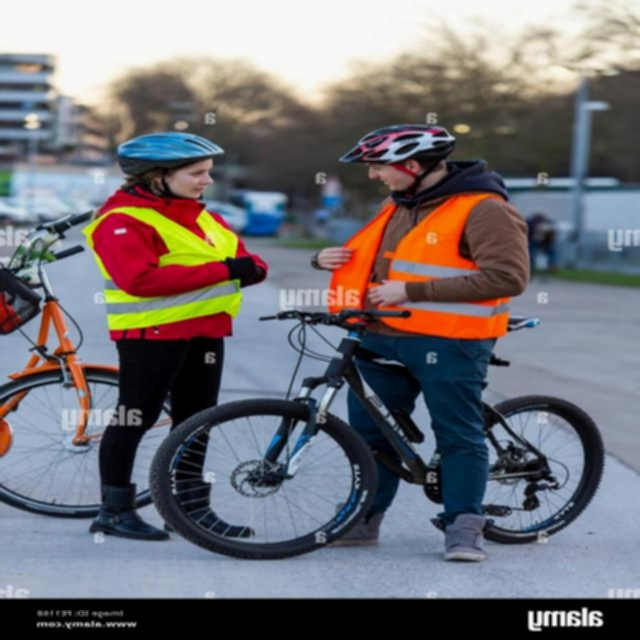Con_Chaleco: (331, 192, 522, 332), (91, 205, 254, 335)
